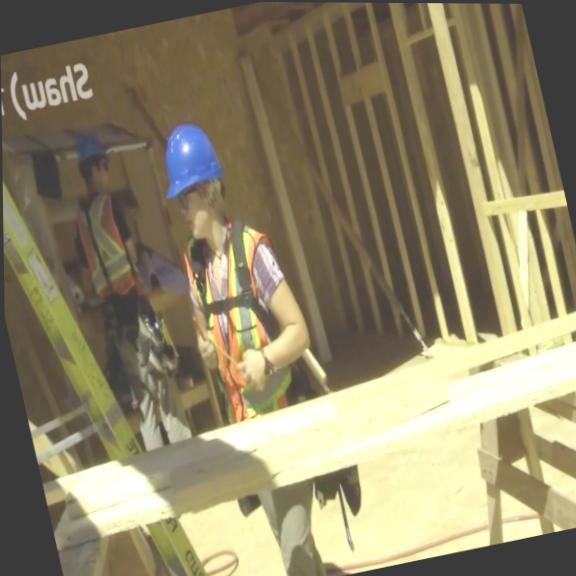safety_vest: (179, 215, 307, 426), (72, 186, 146, 310)
